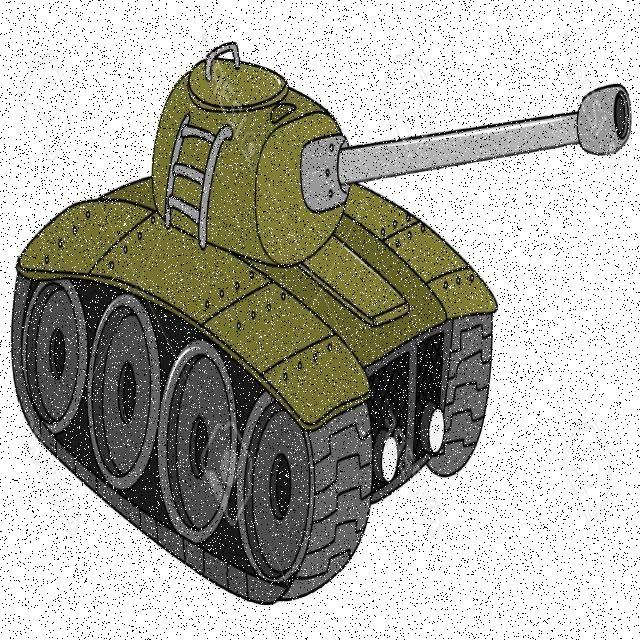MIL_MBT: (19, 57, 582, 572)
